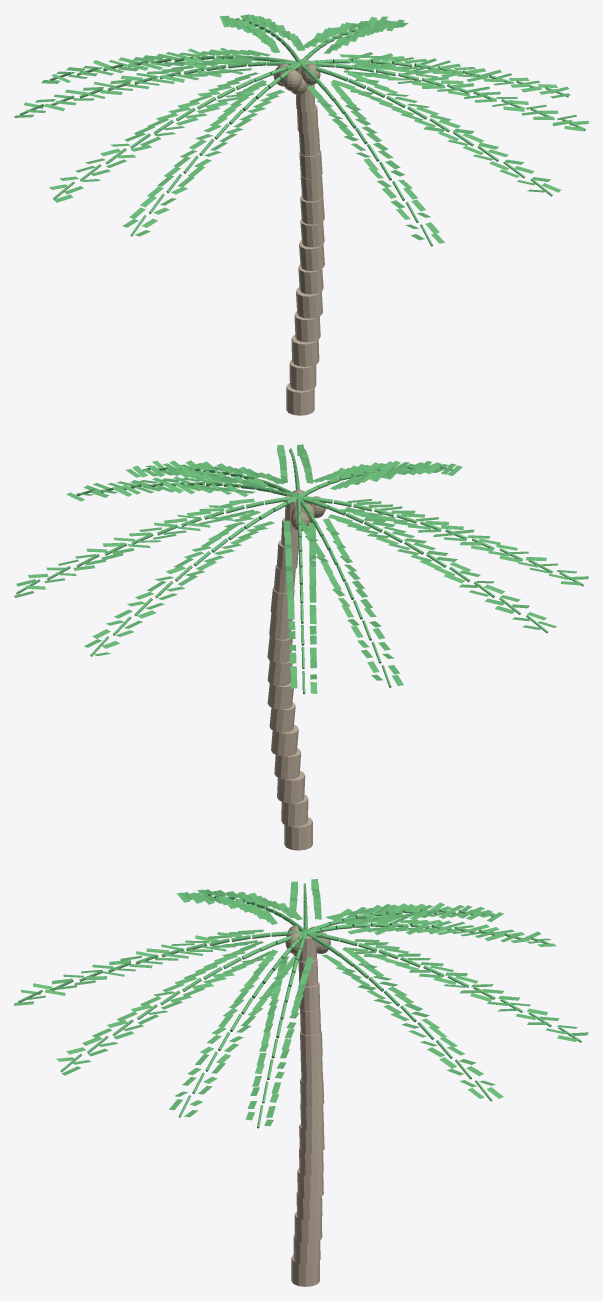
The picture shows the model from 3 angles, top to bottom: view 1: azimuth 30°, elevation 25°; view 2: azimuth 150°, elevation 25°; view 3: azimuth 270°, elevation 25°; orthographic projection.
Parts seen in each view (by area): view 1: object 1, object 390; view 2: object 1, object 390; view 3: object 1, object 390.
Part boxes in pixels (x1,y1,x2,y2): object 1: (286, 59, 324, 415); object 390: (49, 18, 535, 236); object 1: (267, 495, 312, 850); object 390: (16, 450, 584, 693); object 1: (291, 935, 324, 1286); object 390: (87, 885, 581, 1103).
Bounding box in the file's own units: 10.61 × 7.06 × 10.5.
